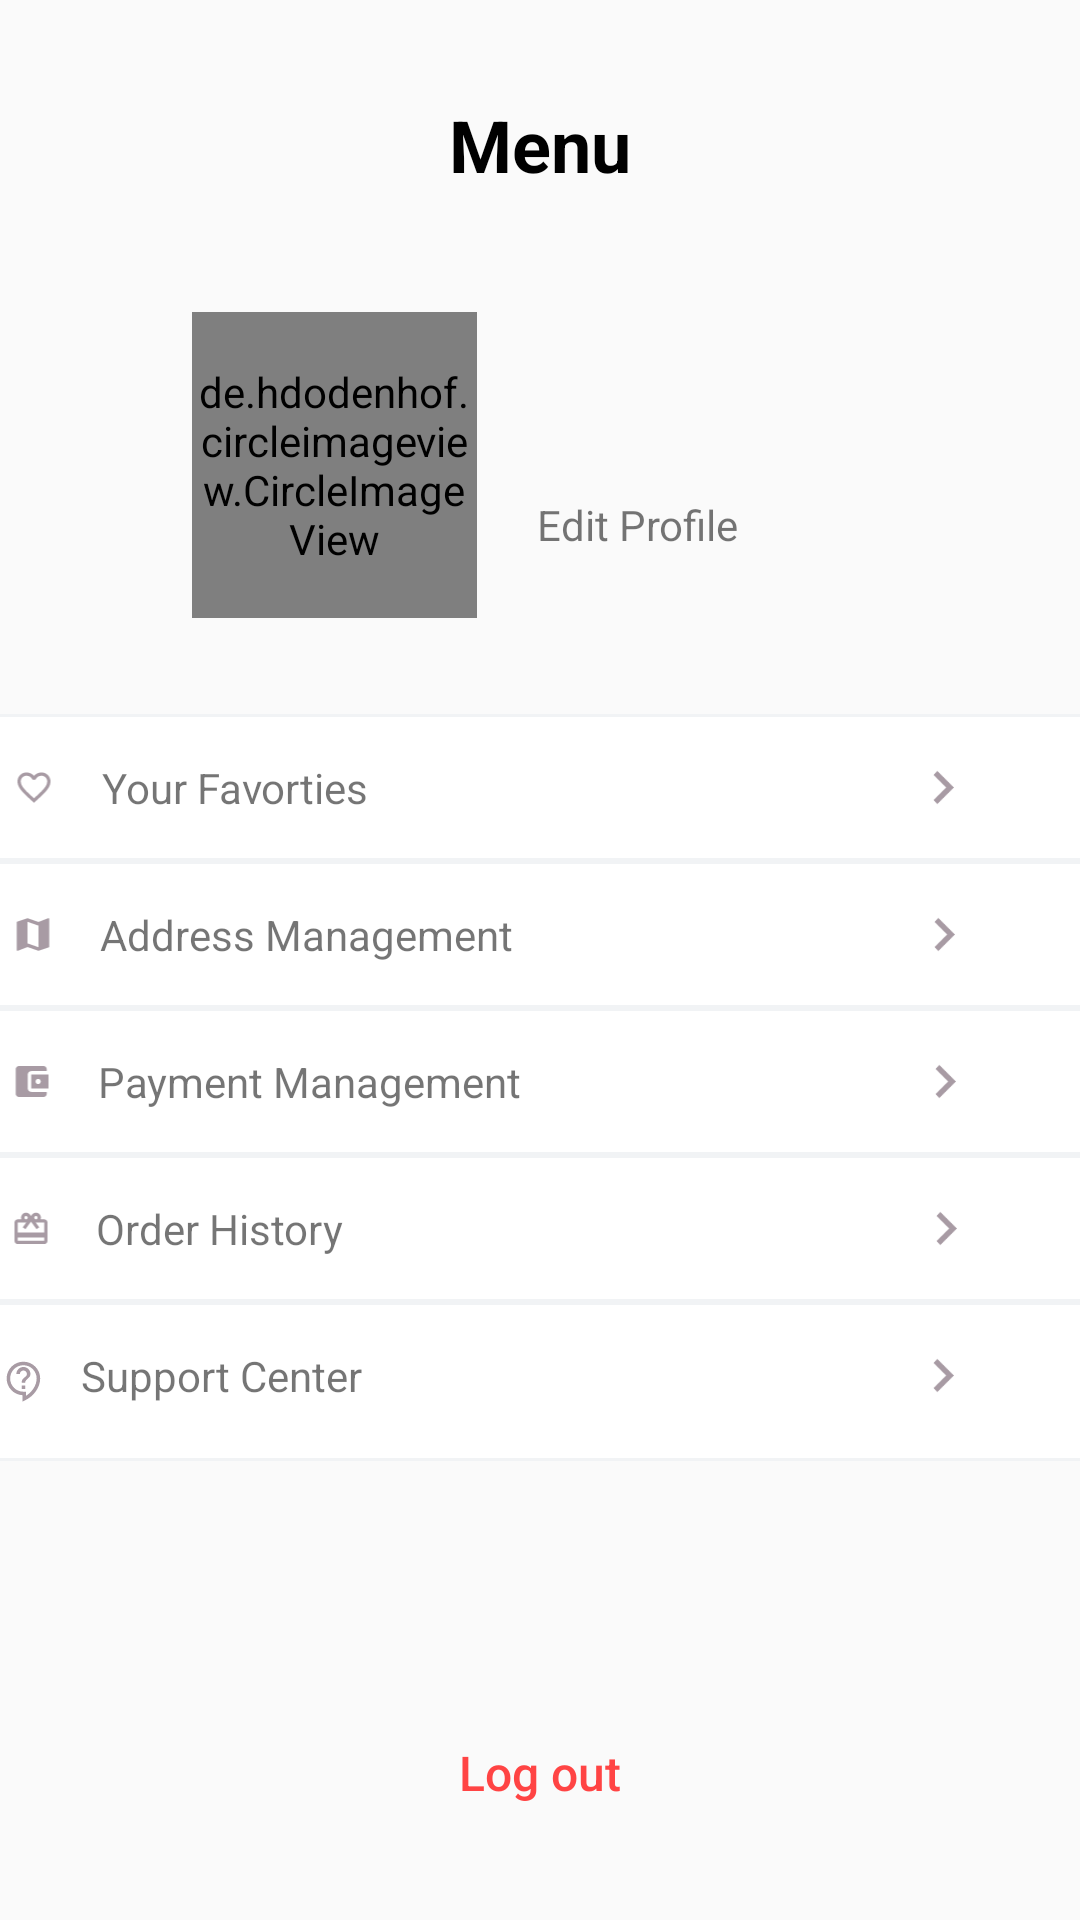

Where to tap for icons on this 1080×1920 app screen, as (x=x, y=y):
arrow forward: (x=944, y=787), (x=945, y=934), (x=946, y=1081), (x=947, y=1228), (x=944, y=1375)
